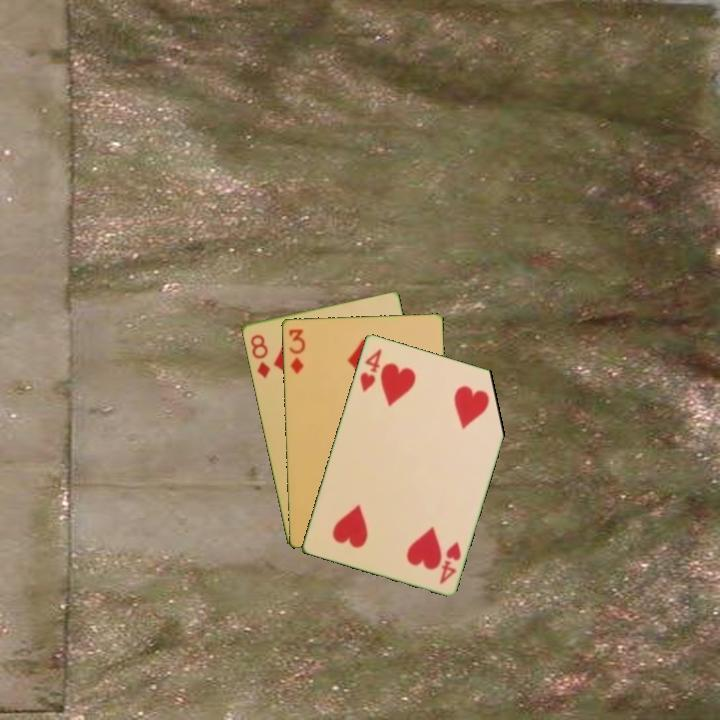3d: (285, 325, 308, 376)
4h: (435, 537, 464, 587), (356, 345, 384, 394)
8d: (246, 331, 273, 381)
